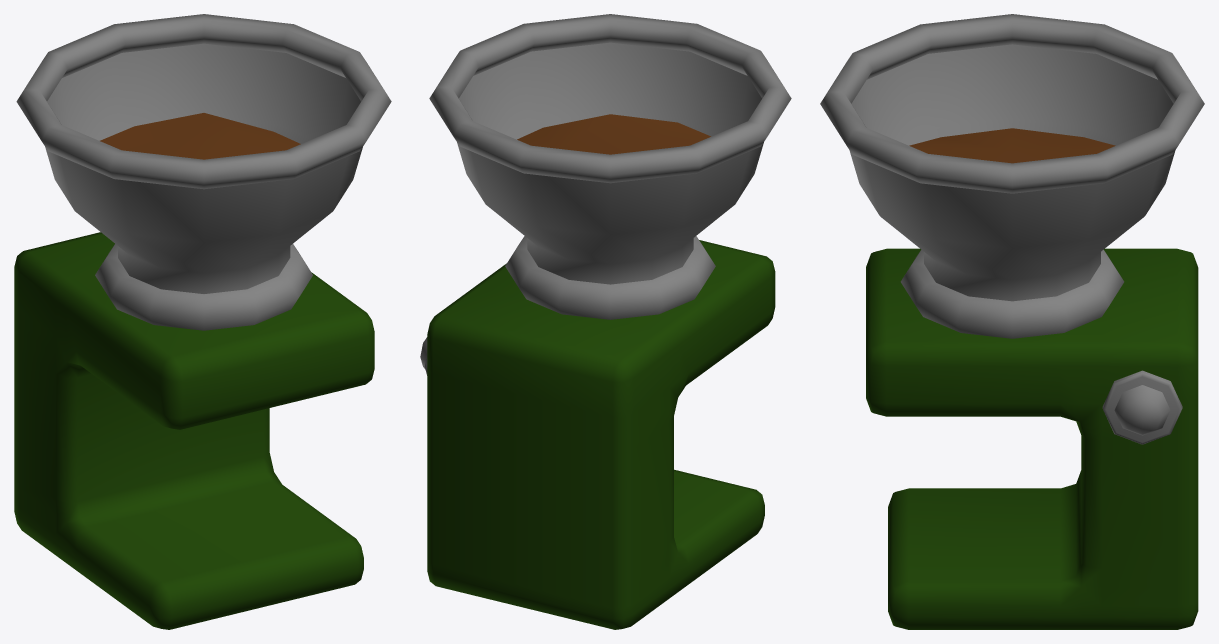
Rendered from Turret_04_B.fbx.
3 views of the same model, side by side, from view 1: azimuth 30°, elevation 25°; view 2: azimuth 150°, elevation 25°; view 3: azimuth 270°, elevation 25° (orthographic). The views are drawn at different scales.
Visible parts, largest first — view 1: 005; view 2: 005; view 3: 005.
Part boxes in pixels (x1=…): 005: x1=14, y1=14, x2=391, y2=629; 005: x1=420, y1=14, x2=791, y2=629; 005: x1=820, y1=14, x2=1204, y2=629.
Bounding box in the file's own units: 39.52 × 55.7 × 39.52.
2 materials, 1 textured.
